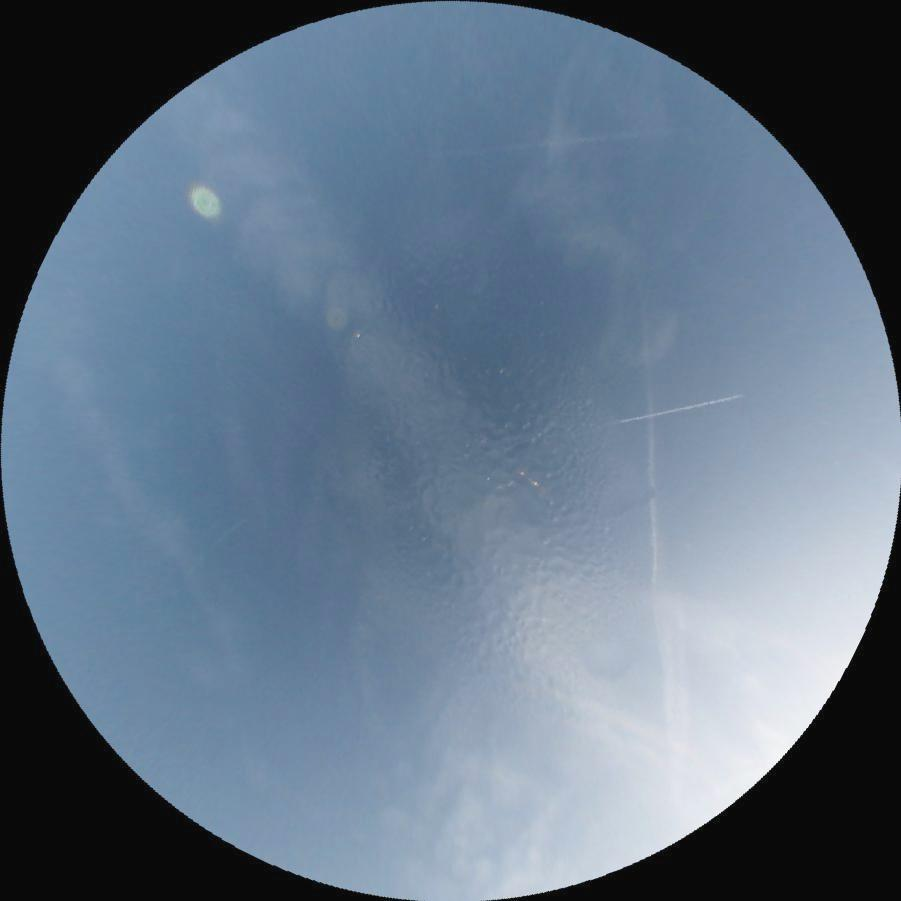contrail young: (429, 128, 671, 157), (615, 390, 744, 423)
